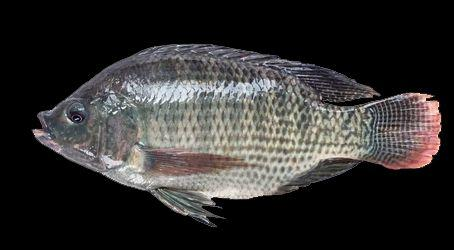Tilapia: (31, 41, 443, 229)
